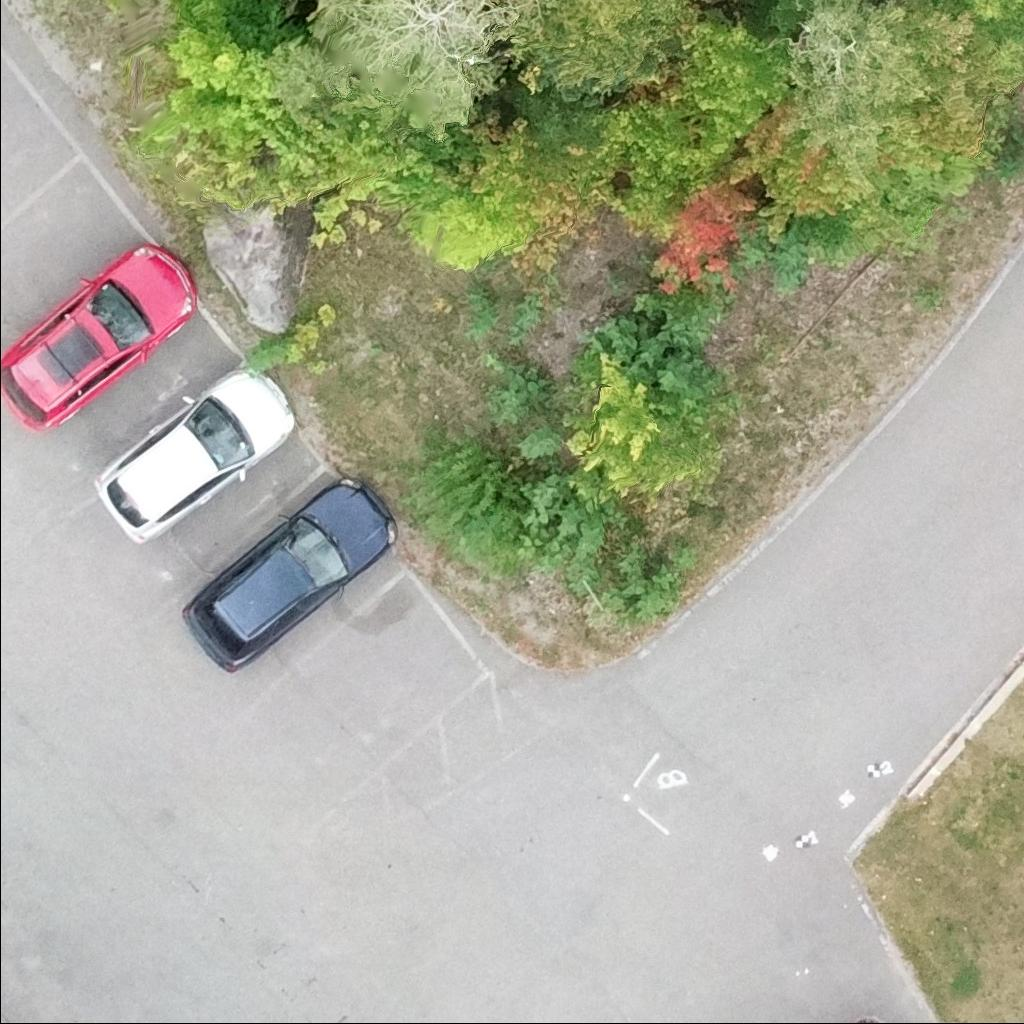crown: (531, 0, 706, 101), (766, 0, 812, 27)
